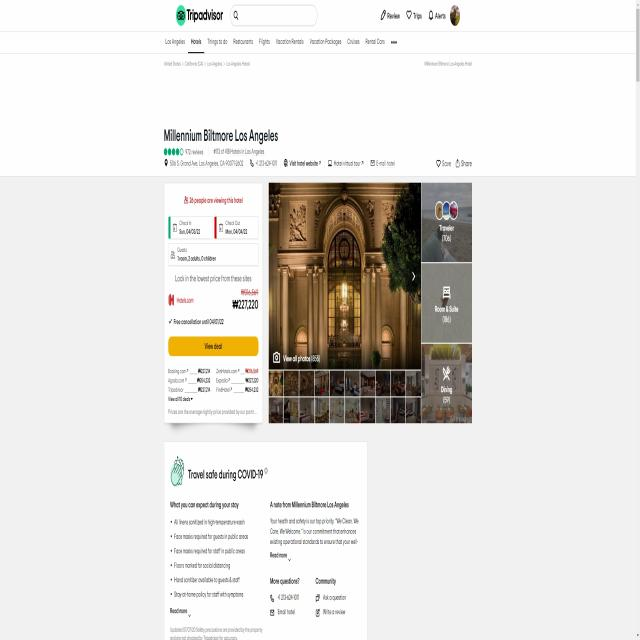menu-bar: (378, 4, 462, 28)
tab-bar: (163, 35, 402, 51)
